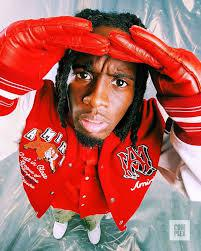kai-cenat: (69, 22, 139, 146)
